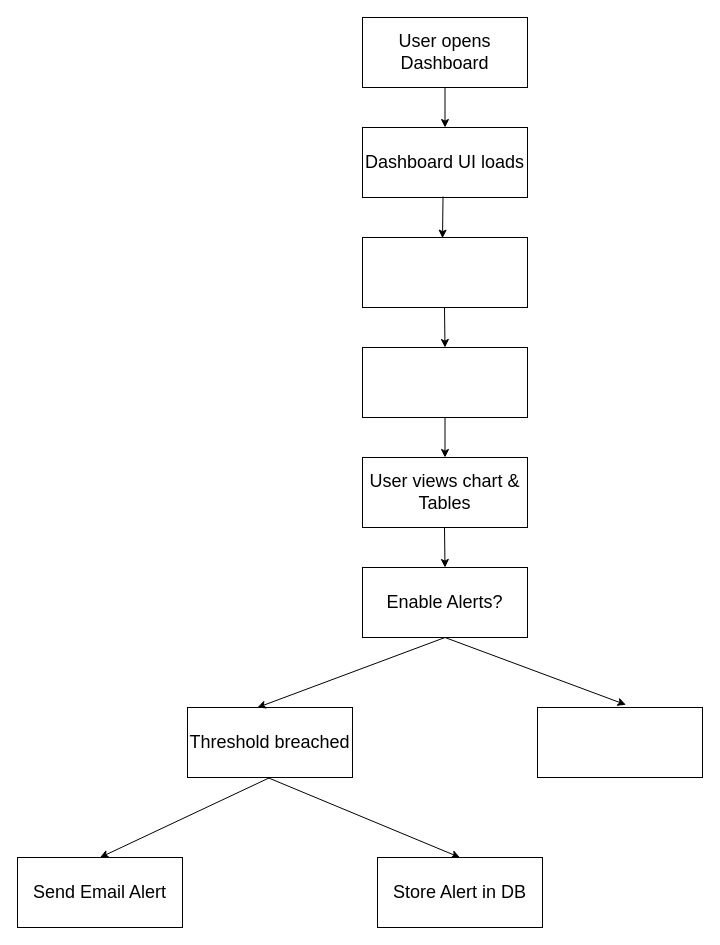
The diagram is 720 pixels wide and 945 high, and some of its shapes have lost their labels. Each missing label, with the box of its shape:
Live alerts displayed: (362, 346, 528, 418)
Sensor simulation starts: (362, 236, 528, 308)
View History/ Export CSV: (536, 706, 702, 778)
